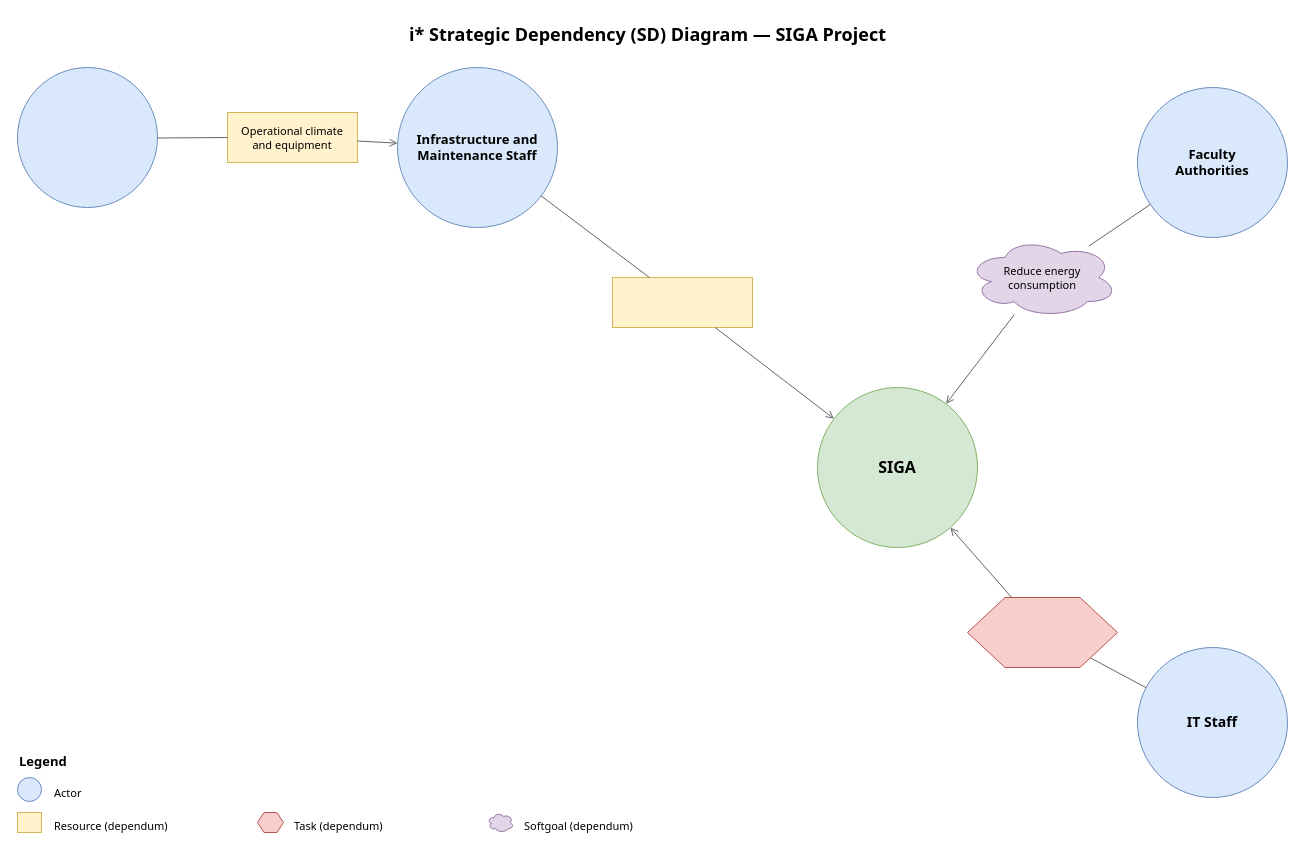
Some shapes in this 1305 by 850 pixel diagram are drawn without their labels. The centre of each missing label's shape, as x and y in pixels:
"Manage access and roles" goes at point (1042, 632).
"Real-time sensor data" goes at point (682, 302).
"Teacher" goes at point (87, 137).
